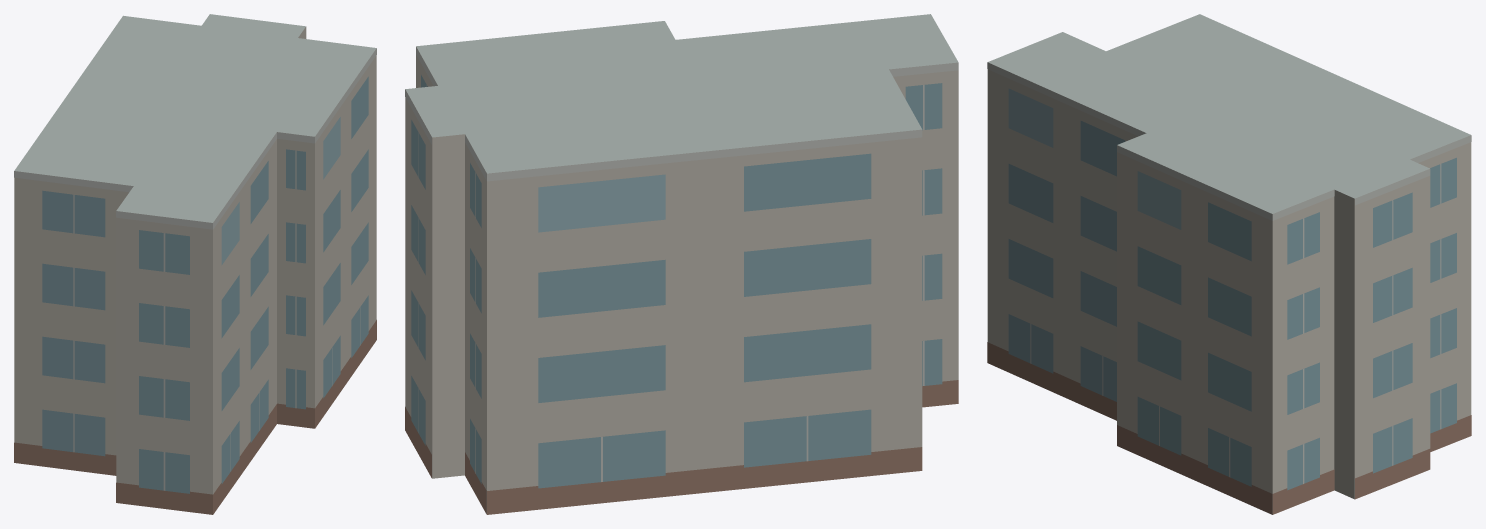
Rendered from survey-upis-32722330.glb.
The picture shows the model from 3 angles, left to right: view 1: azimuth 30°, elevation 25°; view 2: azimuth 150°, elevation 25°; view 3: azimuth 270°, elevation 25°; orthographic projection. The views are drawn at different scales.
Parts seen in each view (by area): view 1: survey-upis-32722330.tmp; view 2: survey-upis-32722330.tmp; view 3: survey-upis-32722330.tmp.
Part boxes in pixels (box(x1,y1,x2,y2)): survey-upis-32722330.tmp: box(14, 14, 376, 514); survey-upis-32722330.tmp: box(405, 14, 958, 514); survey-upis-32722330.tmp: box(987, 14, 1471, 514).
Size of the model in its own units: 15.13 by 10.6 by 15.47.
